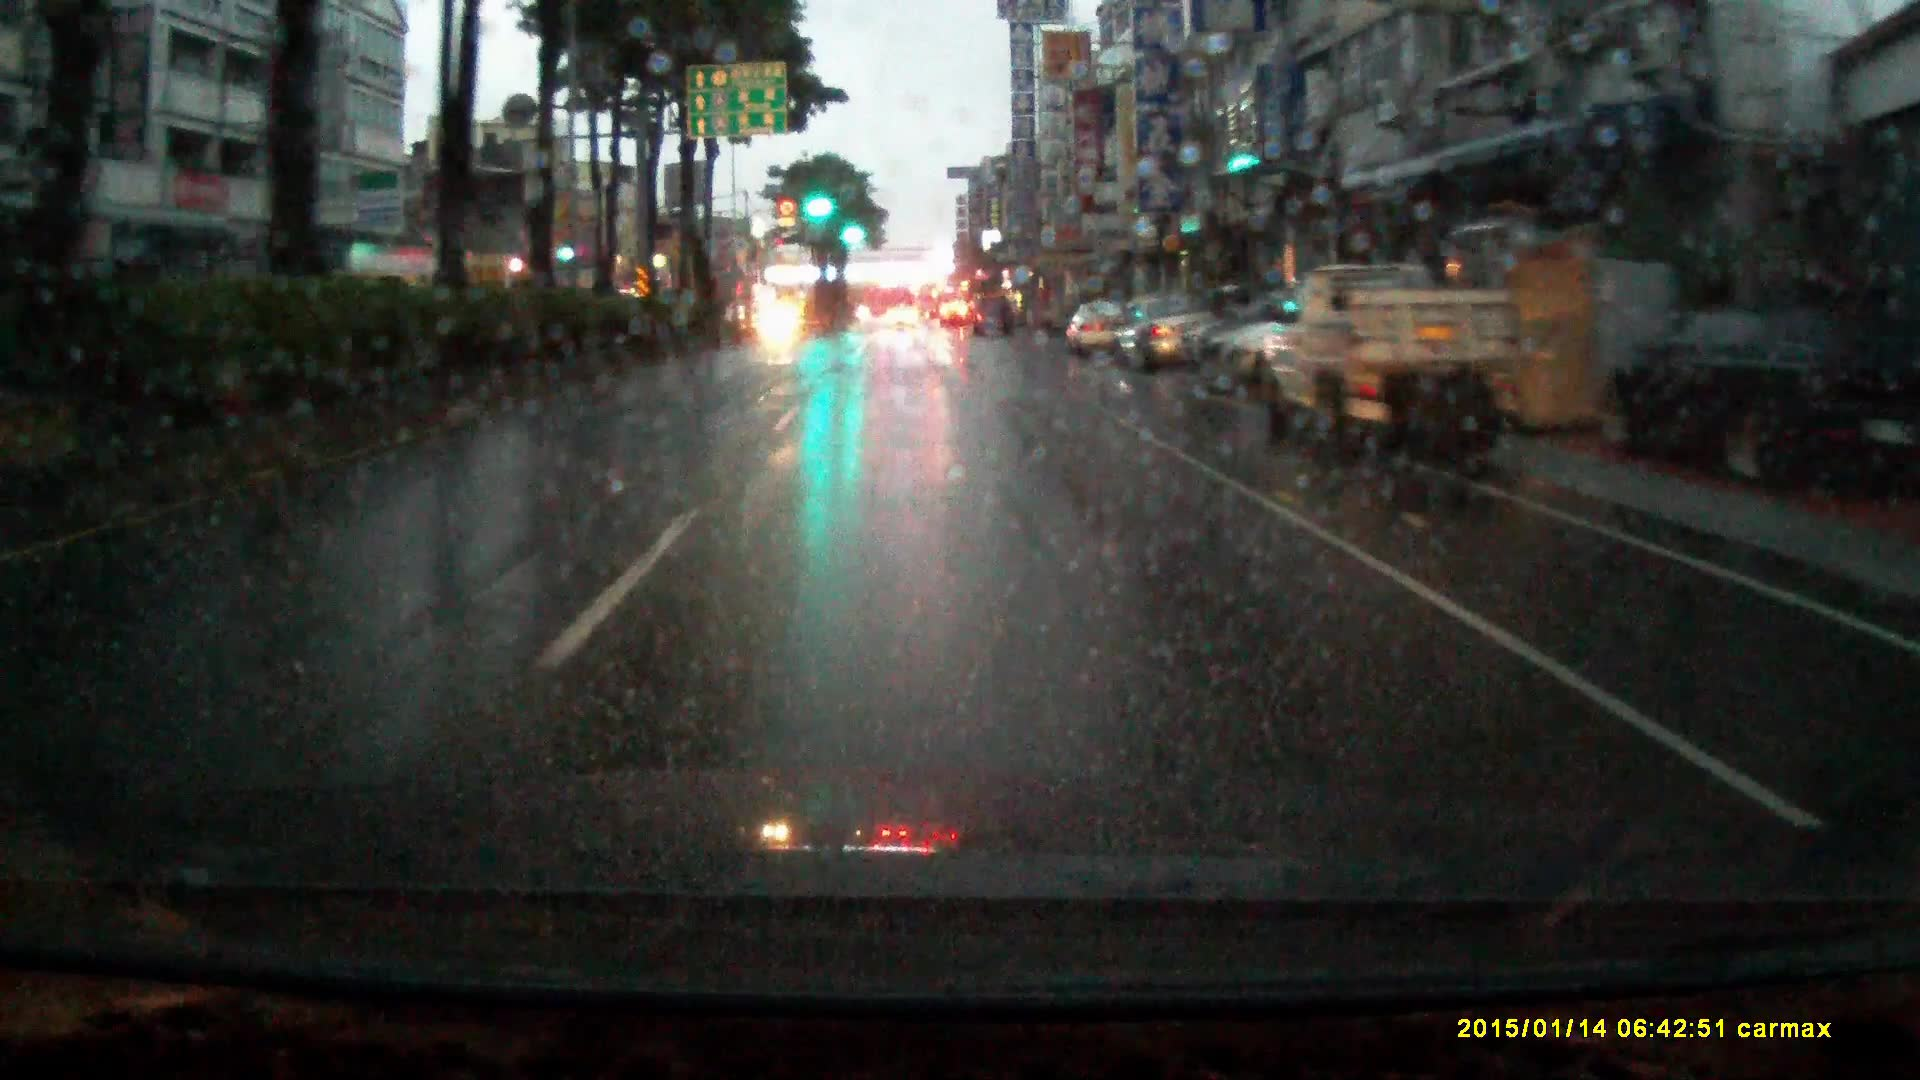vehicle: (1585, 299, 1894, 487), (1261, 264, 1523, 462), (1117, 291, 1226, 375), (1068, 301, 1126, 357), (756, 301, 807, 340), (971, 294, 1015, 338), (914, 282, 938, 318), (942, 299, 971, 327), (886, 305, 919, 324)
